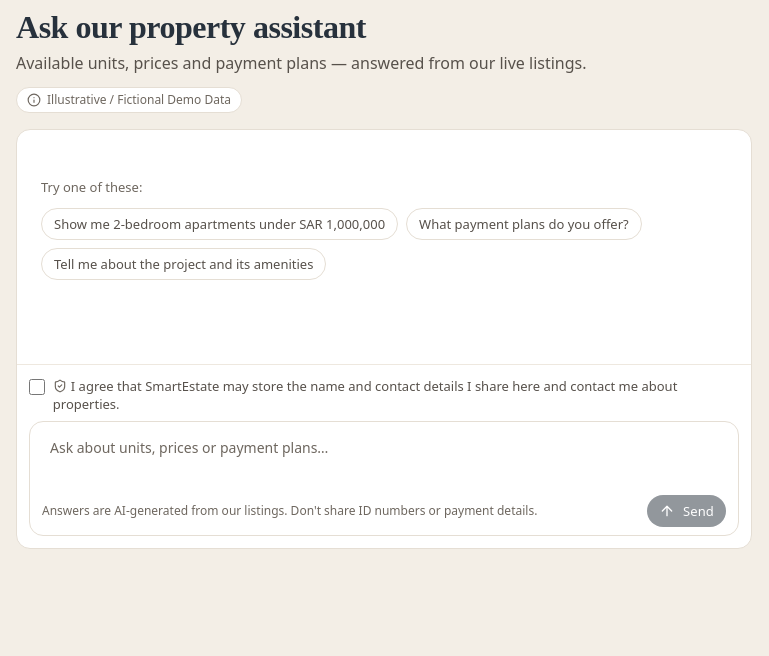
Test: property assistant (moved from the dashboard) › shows unit cards and sends the visitor's consent with the message
Expected: the element showing "Illustrative / Fictional Demo Data" is shown, [16,87,242,113]
Click the checkbox at (37, 387), box [29,379,45,395]
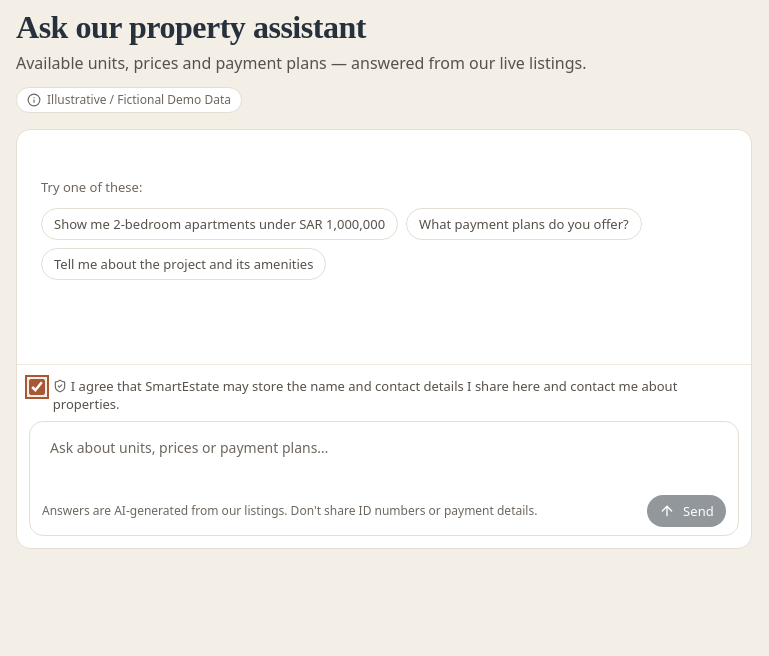
Type "2 bedrooms under 1M" into the text box named "Message" at (384, 458), box [38,430,730,486]
Then press Enter
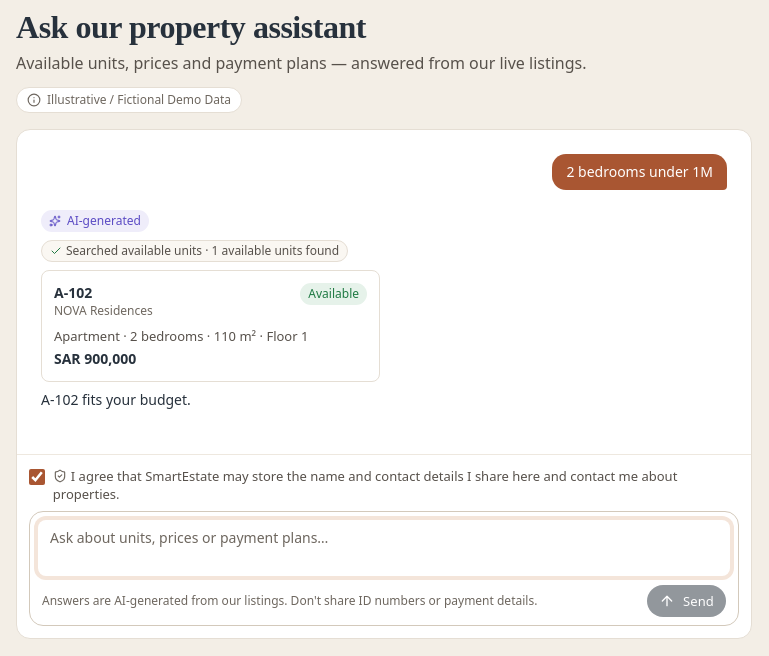
Result: the text "A-102 fits your budget." is shown at [41,390,191,409]
Result: the text "SAR 900,000" is shown at [54,349,136,368]
Result: the text "AI-generated" is shown at [41,210,149,232]
